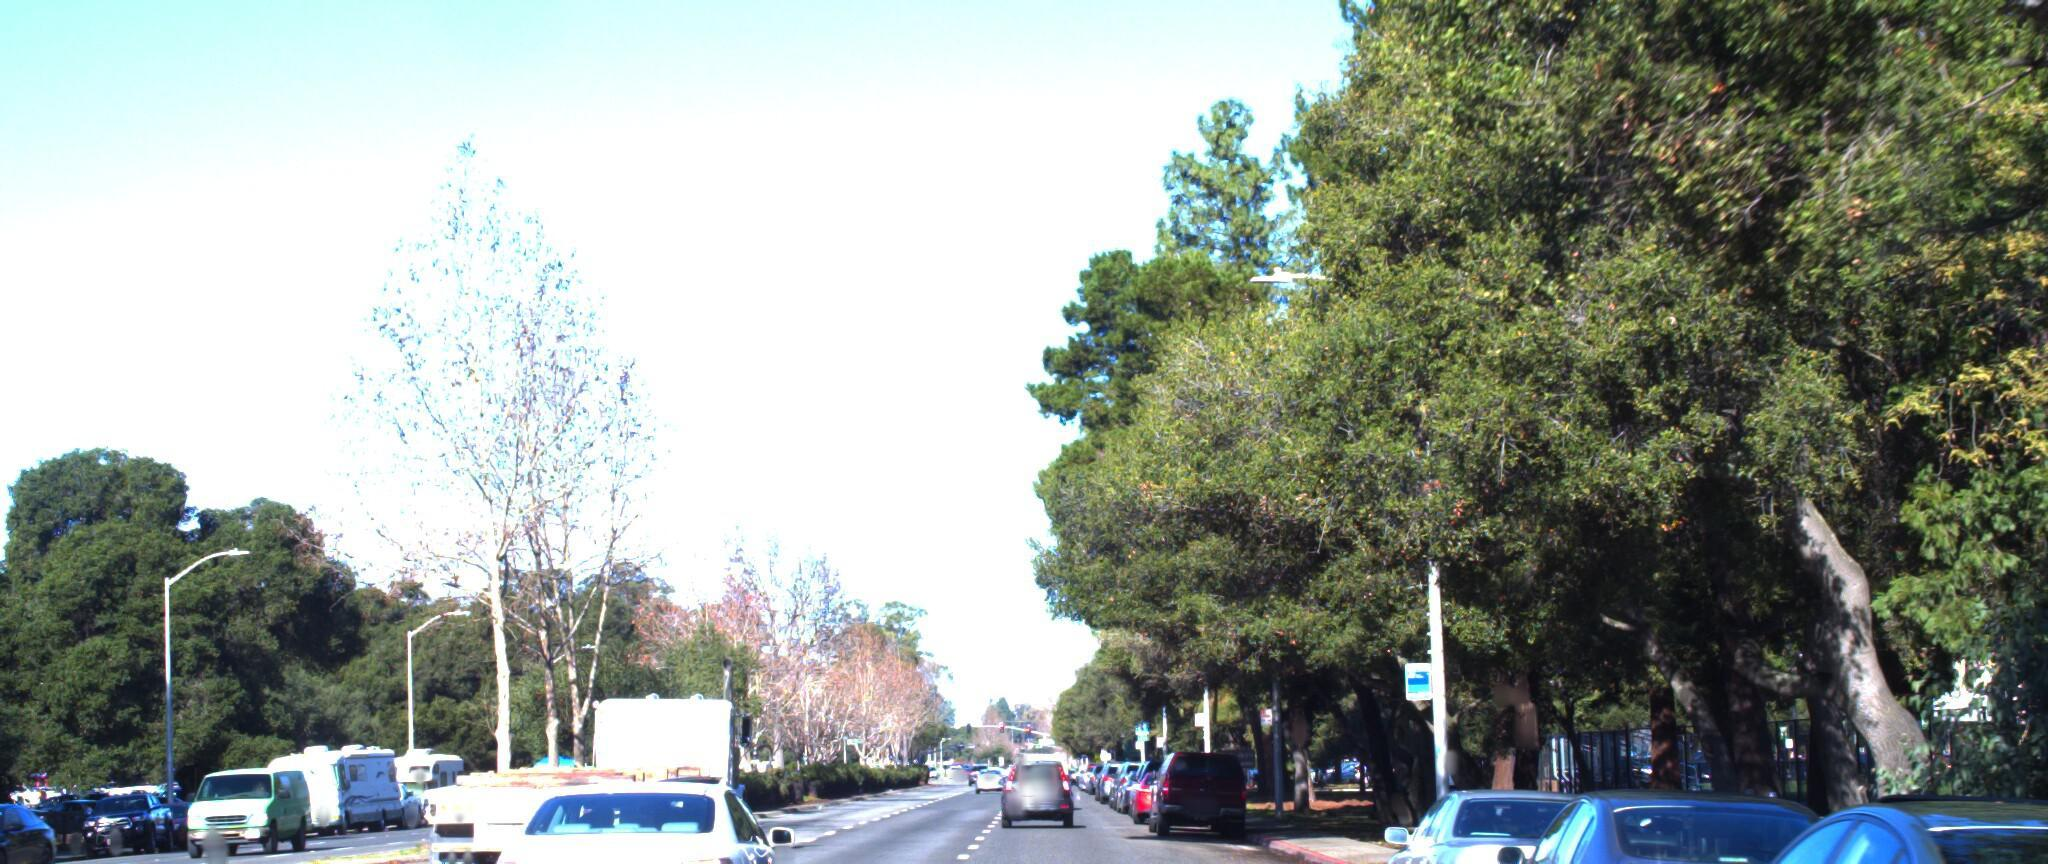car: (1448, 756, 1929, 864), (1609, 760, 2048, 864), (1345, 757, 1678, 864), (475, 766, 816, 864), (1944, 687, 2048, 864), (171, 747, 324, 850), (1138, 740, 1240, 826), (0, 778, 90, 864), (987, 730, 1068, 808)
truck: (408, 607, 785, 864)
